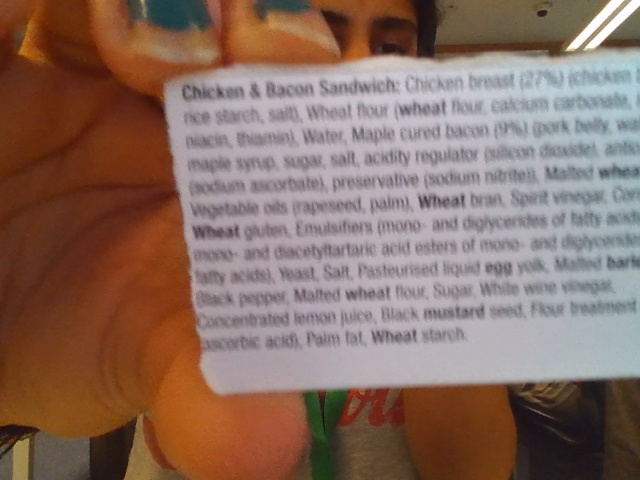chicken: (182, 80, 247, 104)
